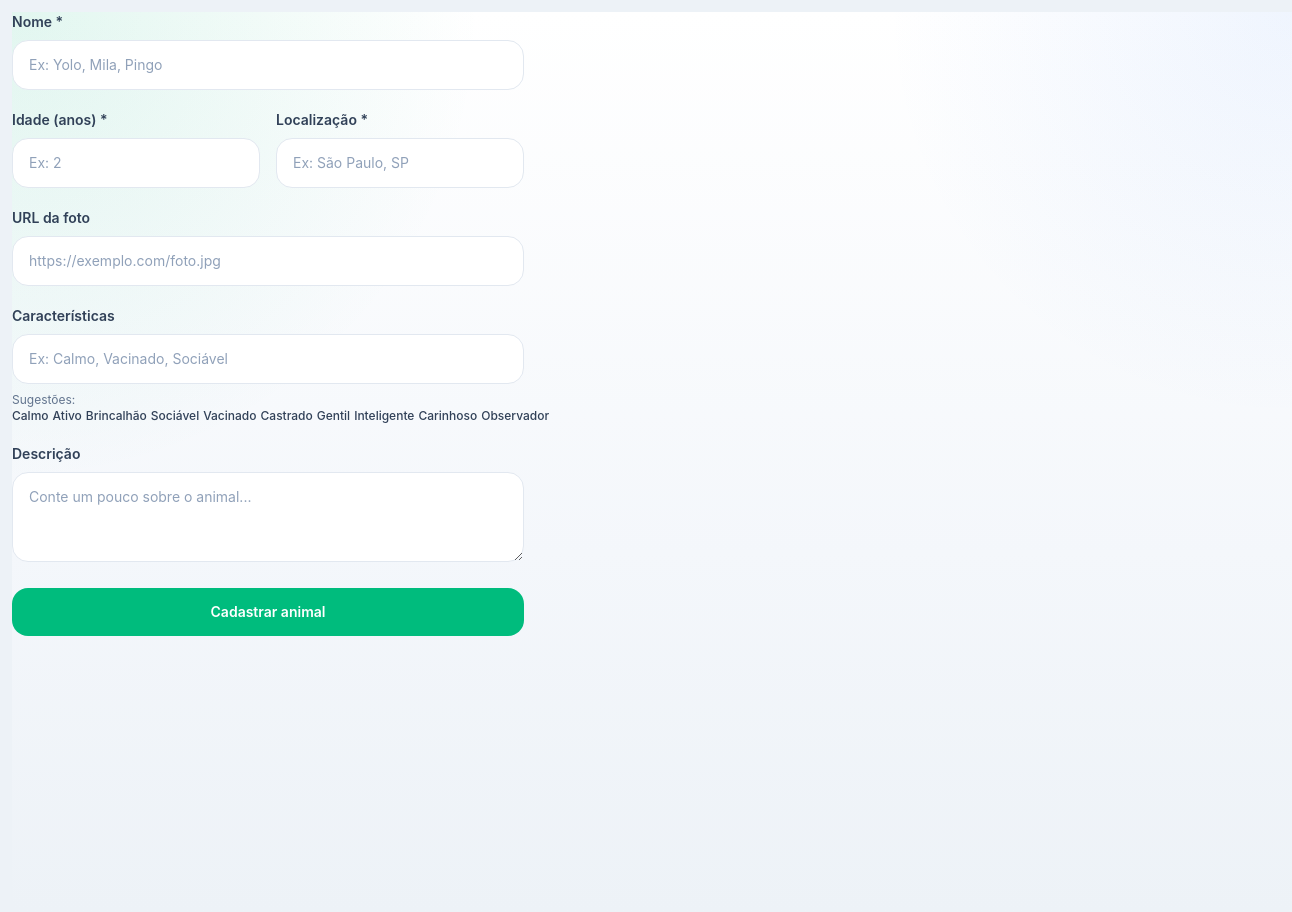
Test: OngAnimalForm › inserts animal and redirects to dashboard on success
The width and height of the screenshot is (1292, 912).
Type "Yolo" into the field with placeholder "Ex: Yolo, Mila, Pingo" at [268, 65], box [12,40,524,90]
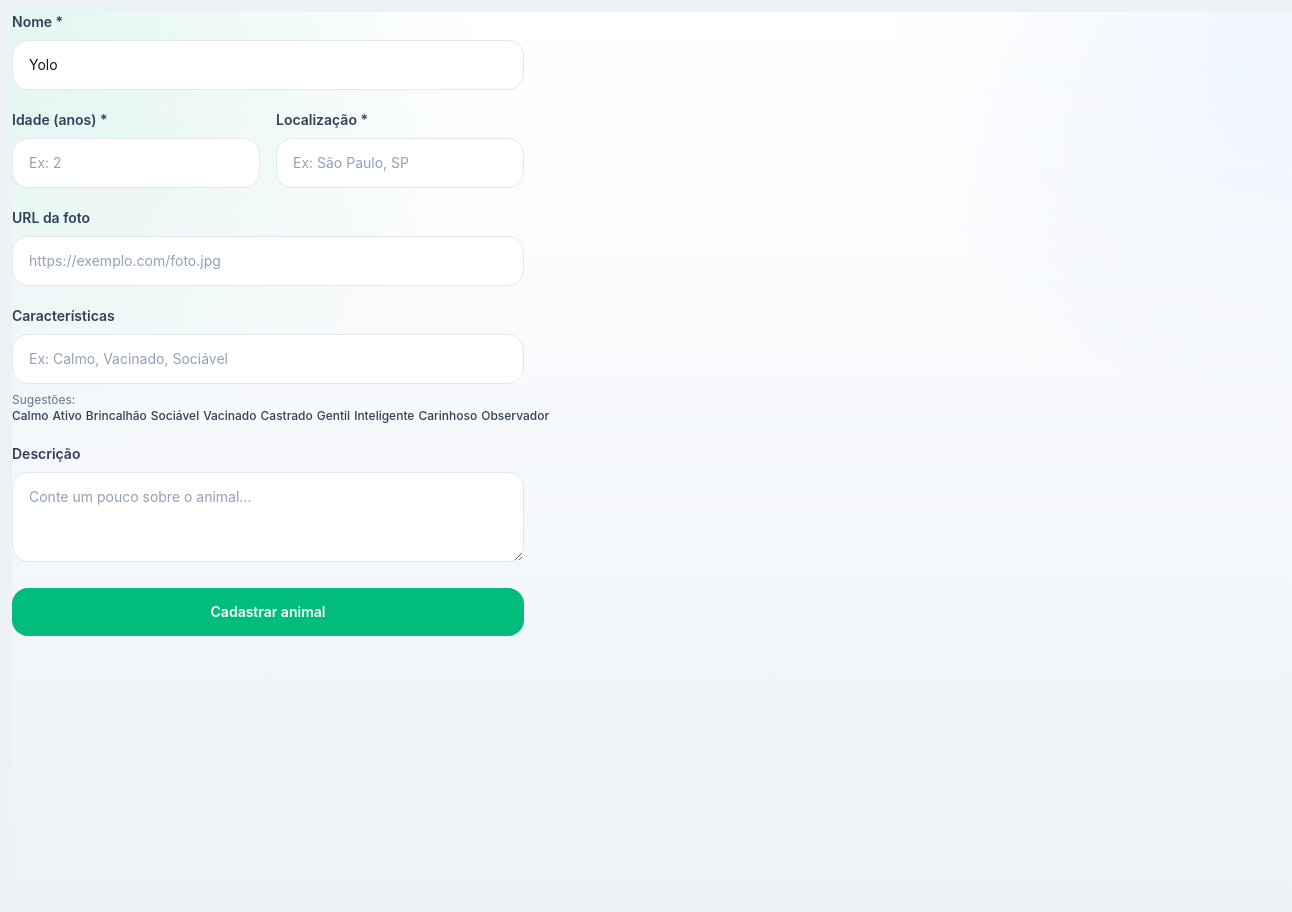
Type "2" into the number field with placeholder "Ex: 2" at [136, 163], box [12,138,260,188]
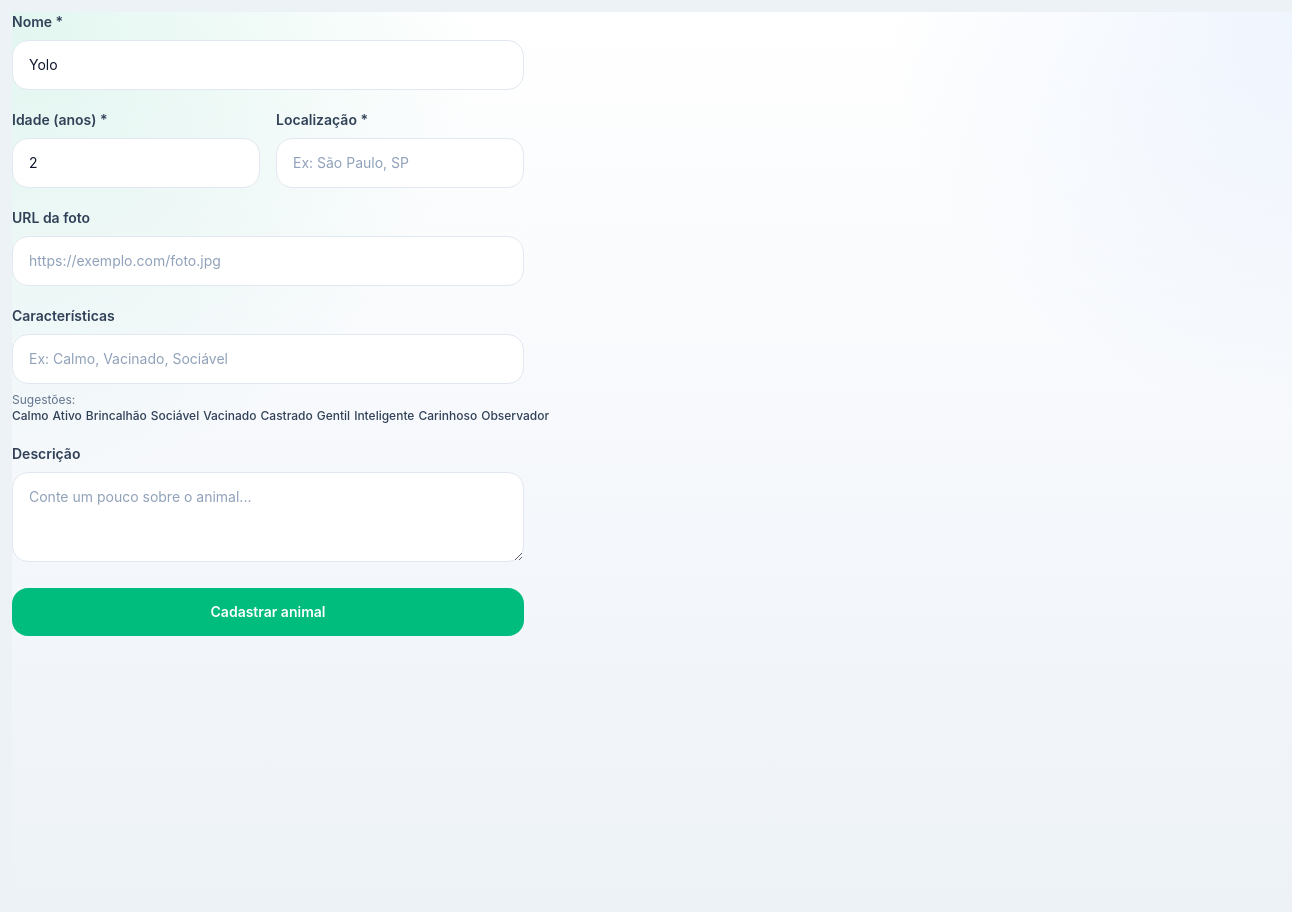
Type "São Paulo, SP" into the field with placeholder "Ex: São Paulo, SP" at [400, 163], box [276,138,524,188]
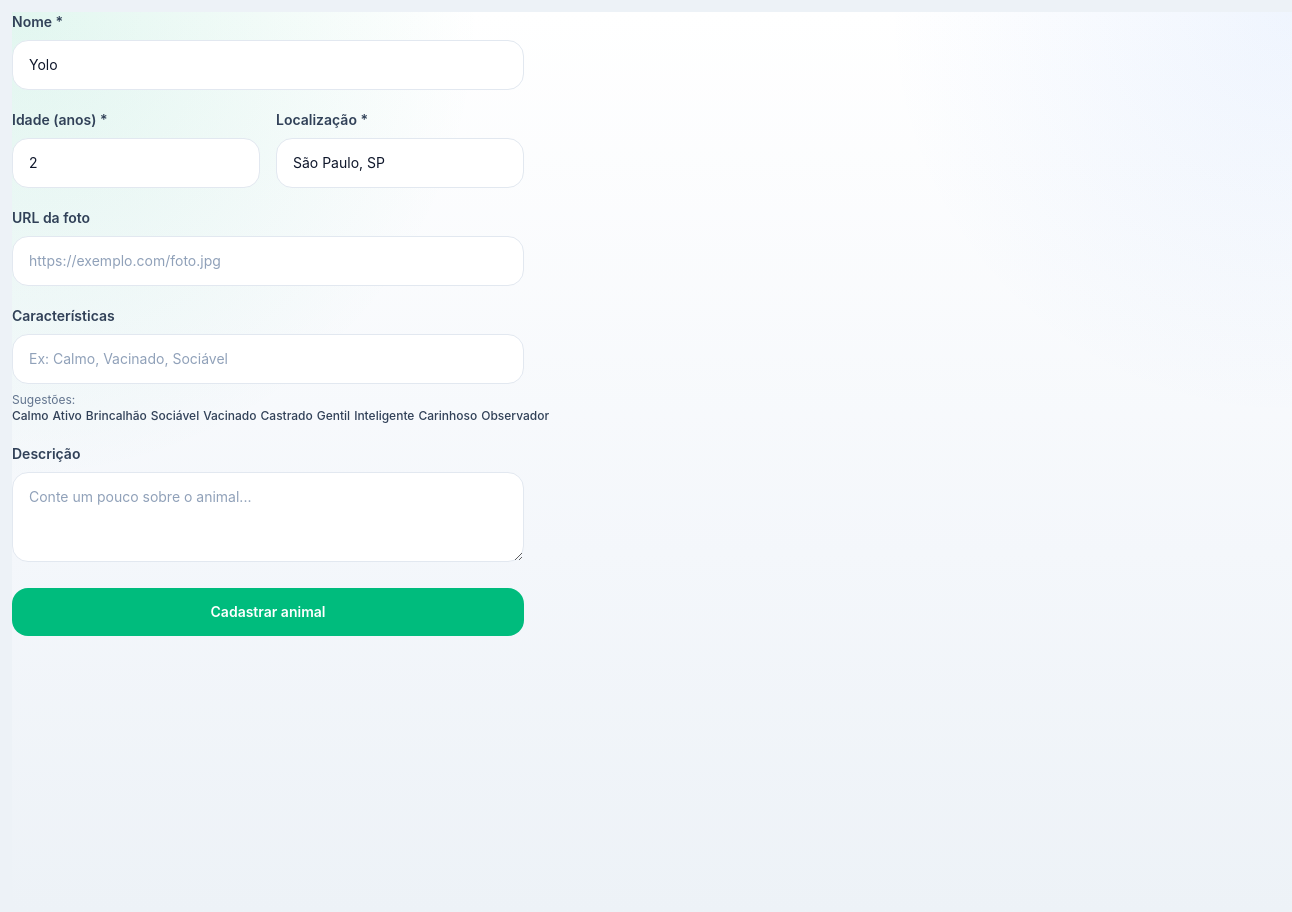
Submit the form from the button "Cadastrar animal", box [12,588,524,636]
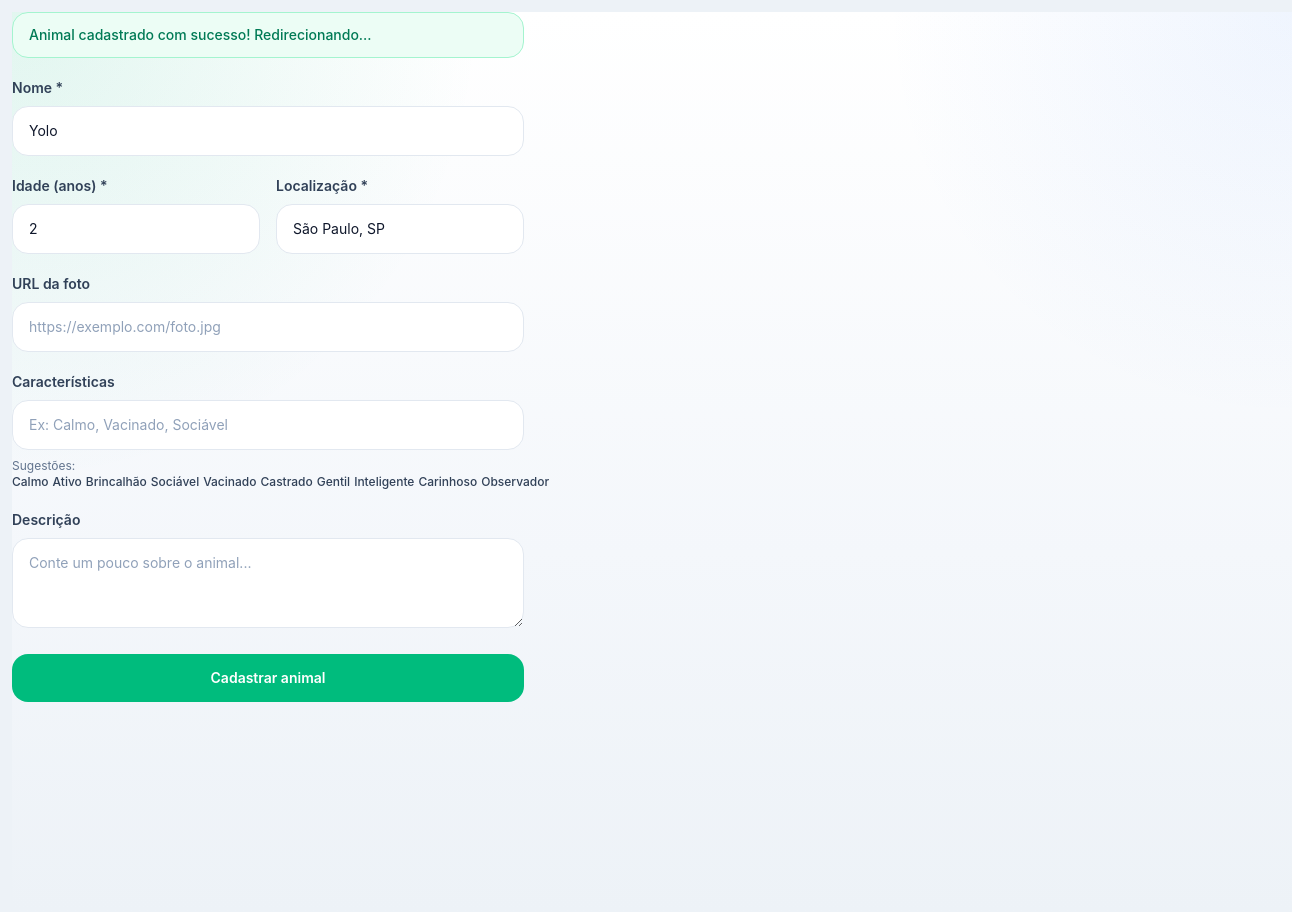
expect the text "Animal cadastrado com sucesso! Redirecionando..." is shown: met, box [12,12,524,58]
